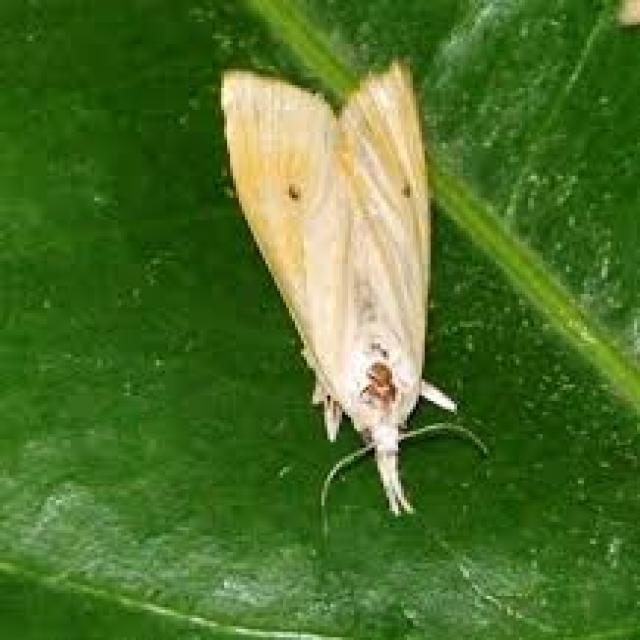yellow-stem-borer: (196, 35, 504, 534)
